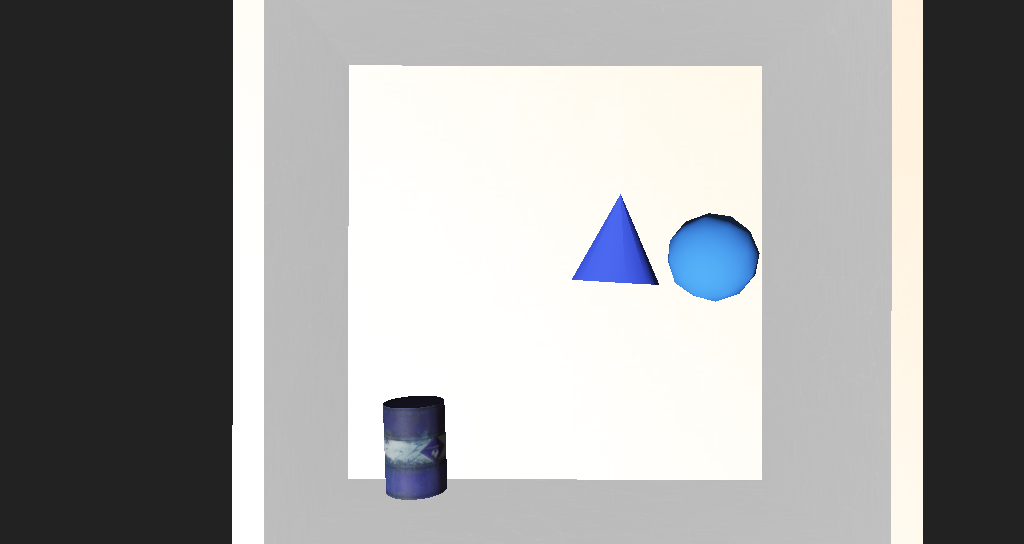cone: (377, 332, 431, 384)
cylinder: (519, 224, 586, 272)
sphere: (589, 241, 650, 284)
